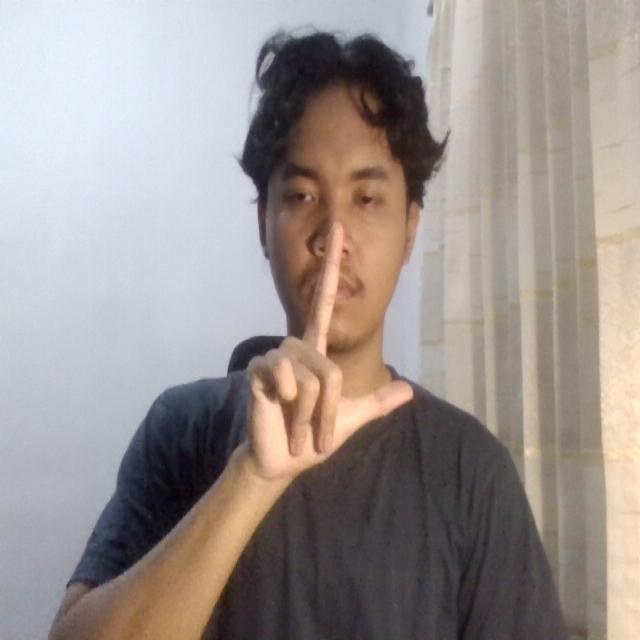I: (222, 208, 427, 491)
